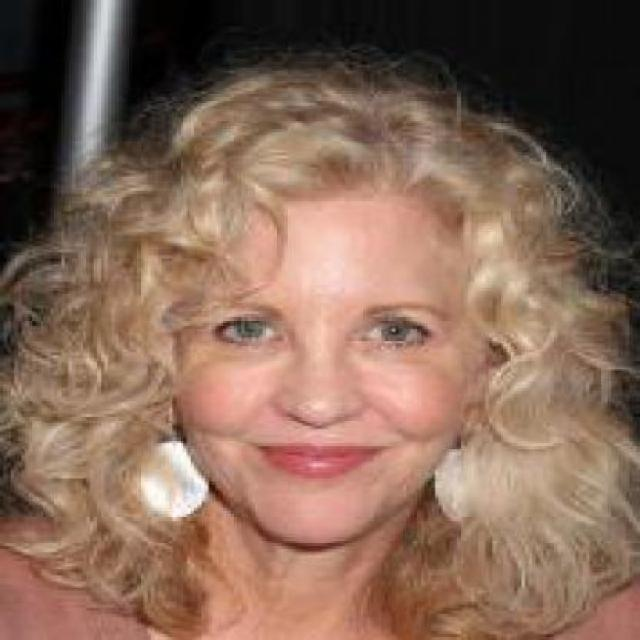closed-mouth: (256, 438, 387, 480)
